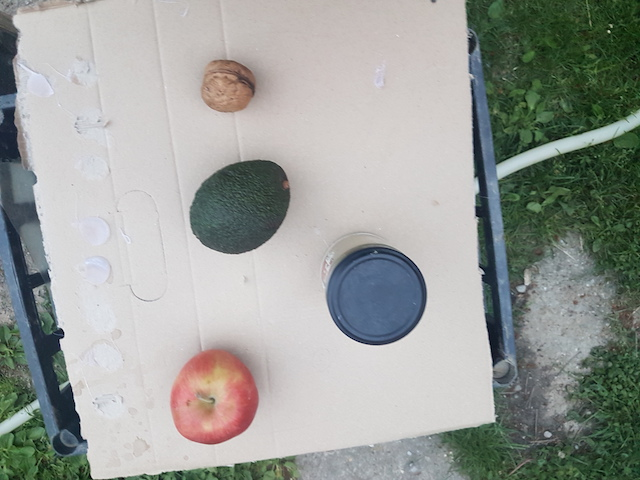apple: (171, 346, 263, 445)
avocado: (187, 154, 296, 257)
nut: (197, 55, 259, 113)
recipient: (323, 249, 429, 352)
